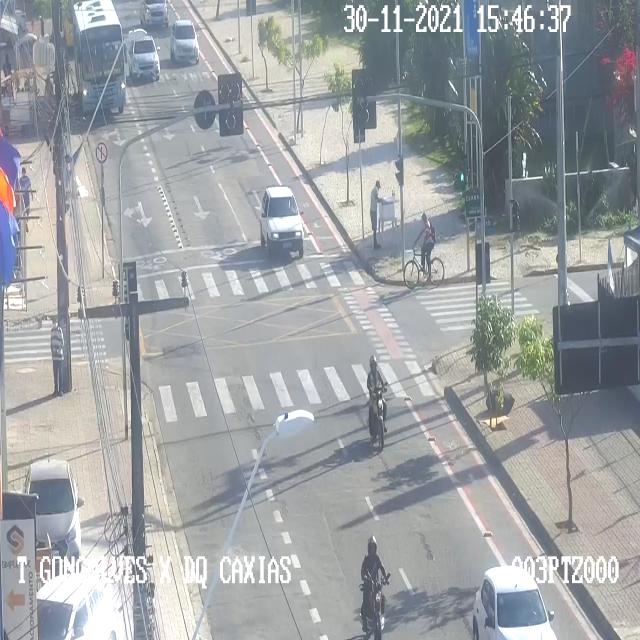Bus: (71, 1, 129, 114)
Car: (24, 460, 80, 570), (473, 566, 556, 639), (36, 573, 117, 639), (260, 186, 303, 257), (128, 35, 159, 79), (170, 20, 198, 62), (145, 2, 171, 34)
Motorcycle: (360, 535, 390, 639), (367, 355, 387, 449)
